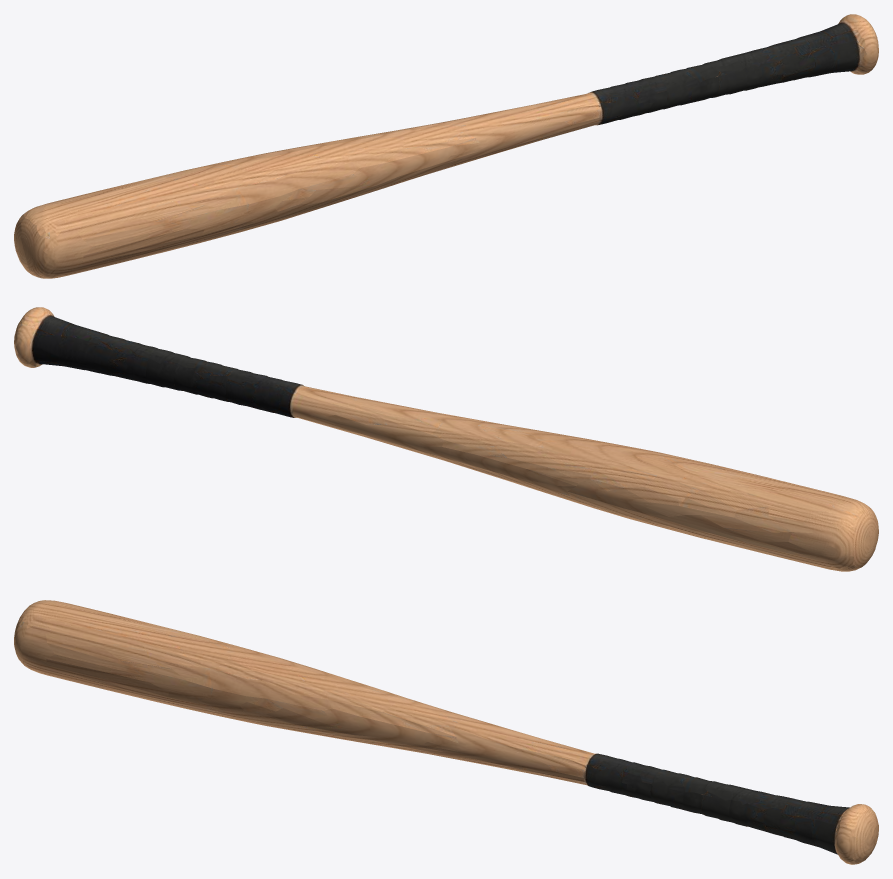
The model's file is w-bat.glb.
3 views of the same model, one above another, from view 1: azimuth 30°, elevation 25°; view 2: azimuth 150°, elevation 25°; view 3: azimuth 330°, elevation 25° (orthographic).
Bounding box in the file's own units: 1.9 × 0.1456 × 0.1454.
1 material, 1 textured.
